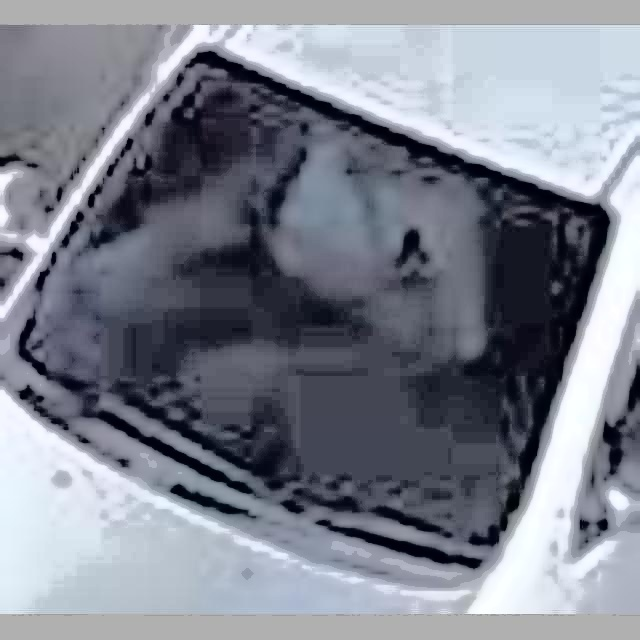pakai: (245, 144, 496, 383)
